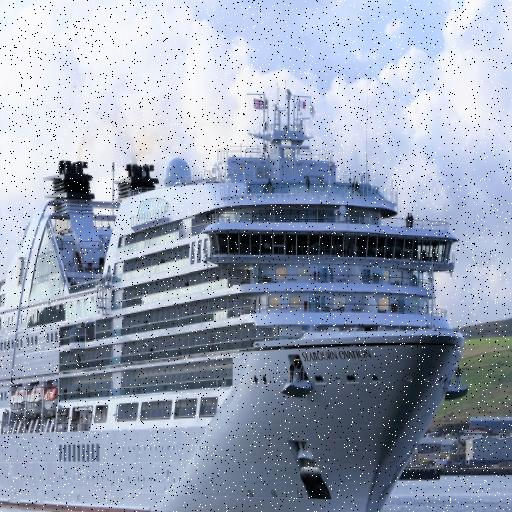cruises: (1, 86, 470, 512)
